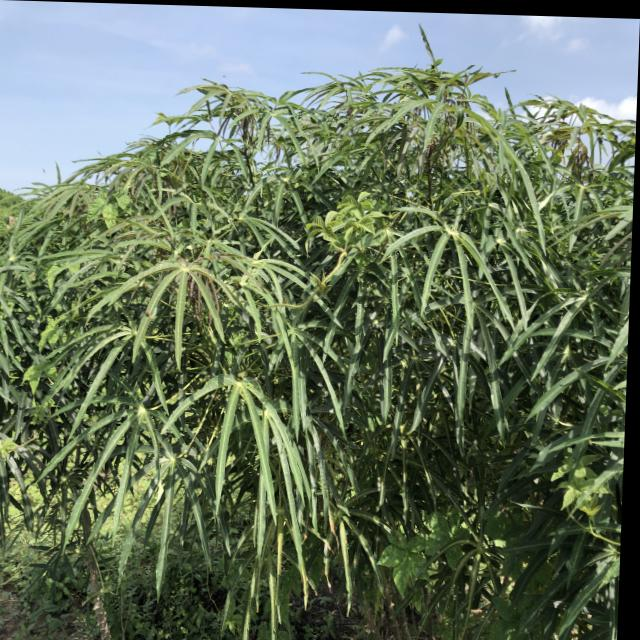Maleza: (330, 200, 376, 236)
Mosca: (141, 310, 154, 319)
